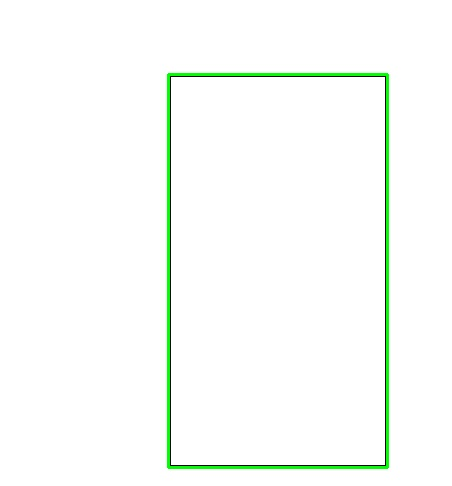line_segment: (167, 73, 389, 469)
